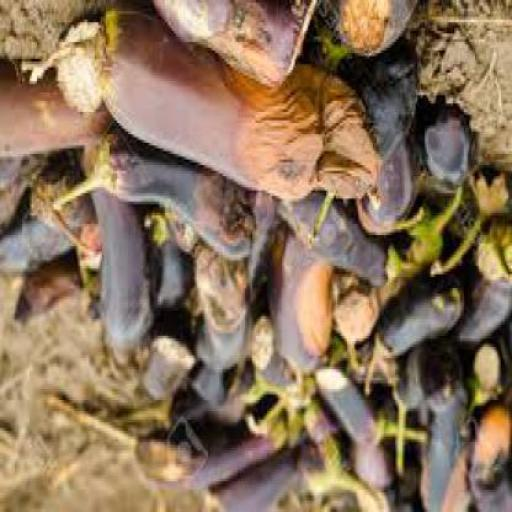biodegradable: (93, 3, 382, 252), (52, 120, 274, 263), (43, 391, 286, 490), (318, 45, 414, 241), (146, 3, 314, 95), (189, 193, 280, 347), (84, 151, 150, 350), (366, 194, 460, 328), (361, 279, 462, 400), (199, 447, 388, 511), (0, 56, 113, 162), (388, 344, 464, 487), (274, 198, 384, 294), (266, 247, 330, 394), (107, 375, 260, 436), (424, 177, 510, 285), (315, 372, 431, 445), (241, 325, 318, 433), (356, 120, 423, 241), (22, 22, 102, 121), (311, 2, 421, 72), (190, 246, 248, 378), (455, 224, 510, 352), (0, 187, 71, 280), (419, 403, 475, 511), (10, 254, 82, 333), (202, 450, 295, 511), (330, 277, 380, 386), (142, 210, 190, 322), (419, 100, 471, 199), (465, 408, 511, 510), (28, 168, 94, 232), (70, 221, 102, 319), (0, 152, 52, 198), (352, 486, 410, 511)
